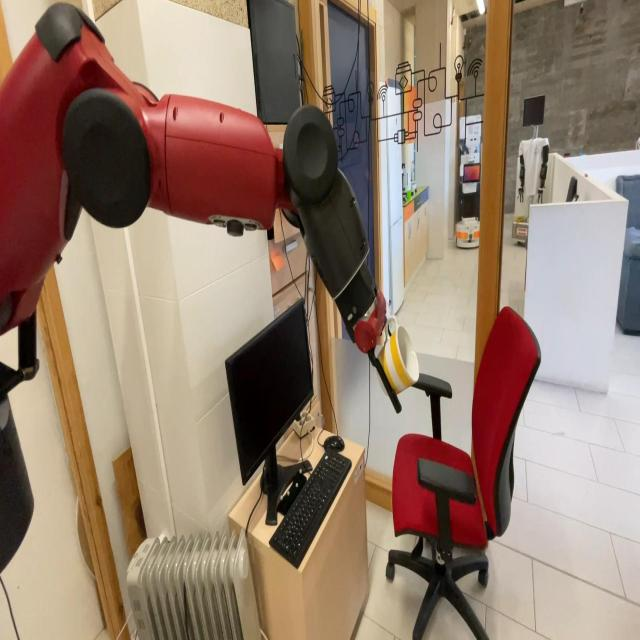cup: (374, 313, 420, 399)
